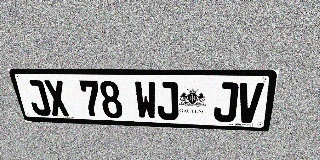7: (78, 80, 104, 118)
8: (98, 81, 123, 118)
J: (213, 82, 239, 122), (24, 80, 52, 116), (156, 81, 178, 120)
V: (236, 82, 264, 123)
W: (134, 81, 157, 120)
X: (43, 80, 70, 116)
